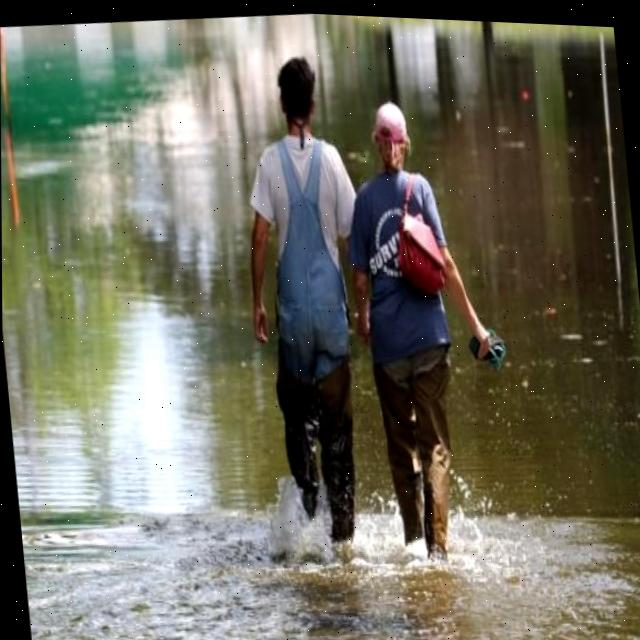civilian: (325, 80, 515, 576), (219, 41, 392, 573)
